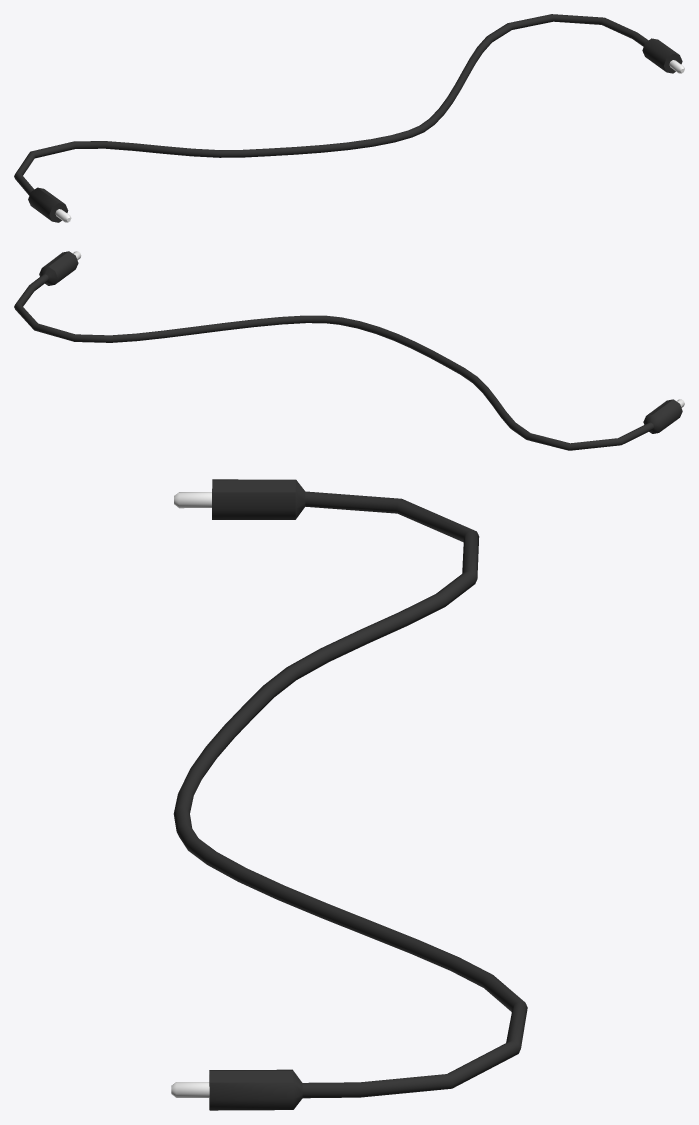
Rendered from ElectroWires09_2.FBX.
3 renders of one model, top to bottom at view 1: azimuth 30°, elevation 25°; view 2: azimuth 150°, elevation 25°; view 3: azimuth 270°, elevation 25°, orthographic. The views are drawn at different scales.
Parts seen in each view (by area): view 1: Wires09; view 2: Wires09; view 3: Wires09.
Boxes of the visible parts, x1,y1,x2,y2 form: Wires09: (14, 14, 684, 222); Wires09: (14, 251, 684, 450); Wires09: (171, 479, 527, 1110).
Size of the model in its own units: 92.14 by 2.77 by 22.81.
